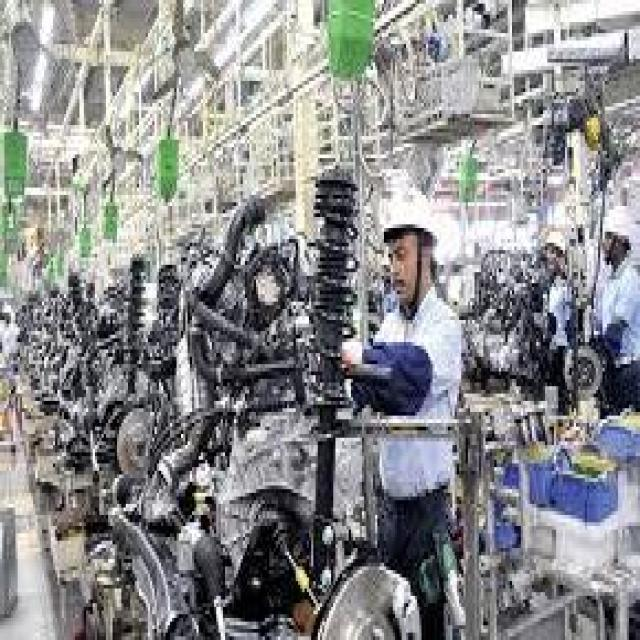Safety-Helmet: (375, 169, 446, 254)
